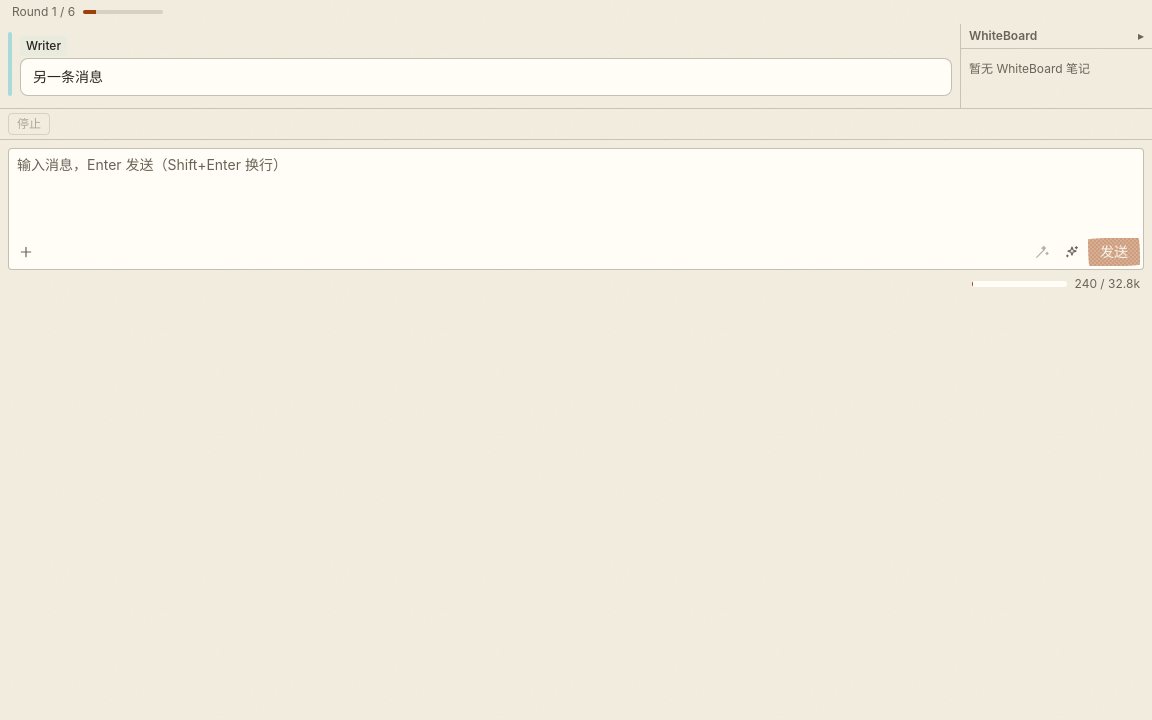
Scenario: GroupConversationView — WeChat-style bubble toolbar (气泡工具栏) › closes the toolbar on a click outside any message row
Check: the text "另一条消息" is shown, box [33,68,103,85]
Click the element with test id "speaker-bubble-body": (486, 77) [20,58,952,96]
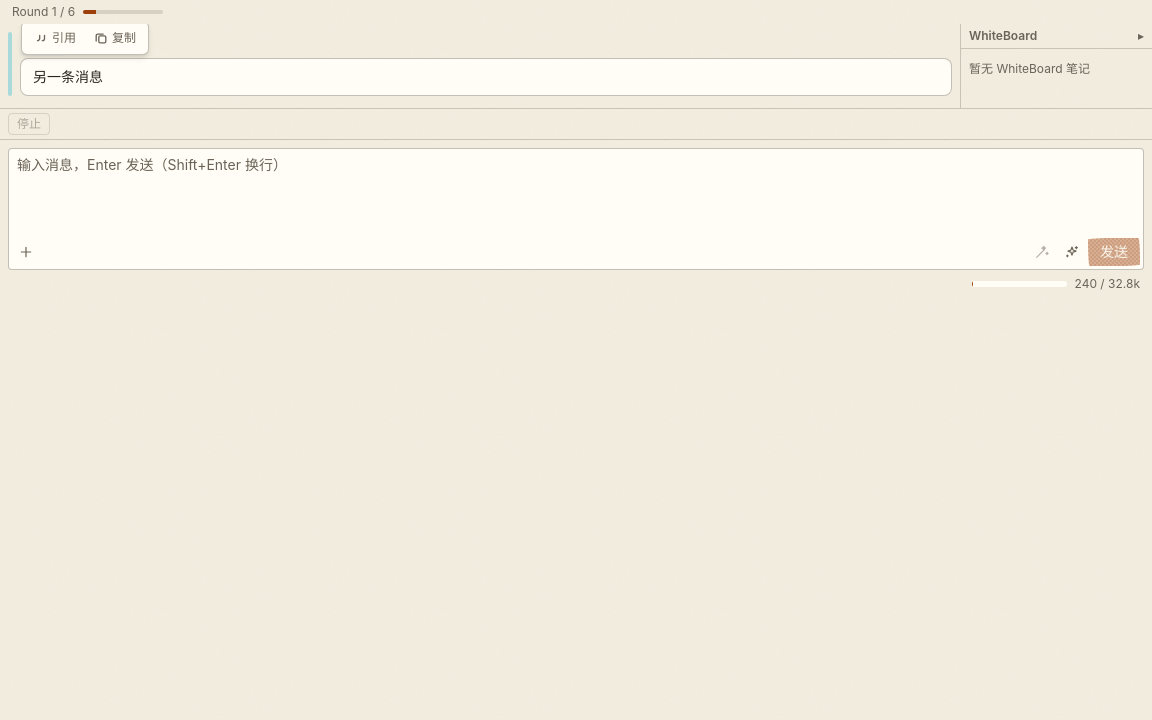
Check: the element with test id "bubble-toolbar" is shown, box [21,24,149,55]
Press the mouse on the element that starts with "Round": (576, 360) [0,0,1151,719]
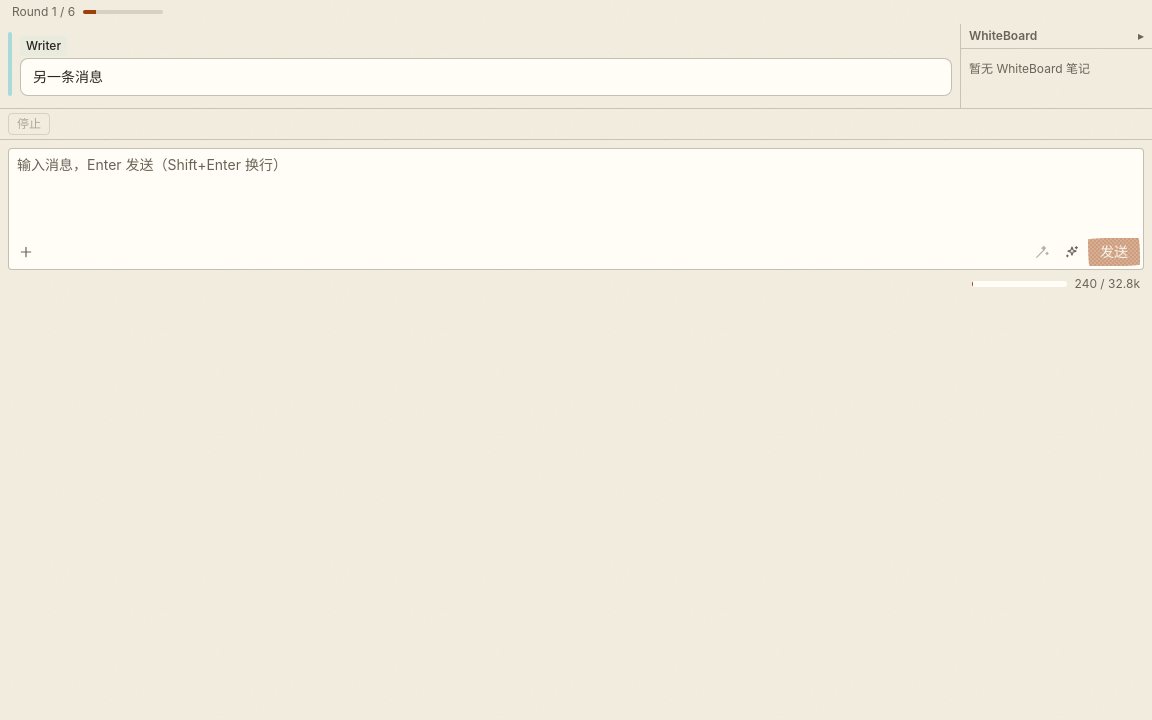
Check: the element with test id "bubble-toolbar" is gone
